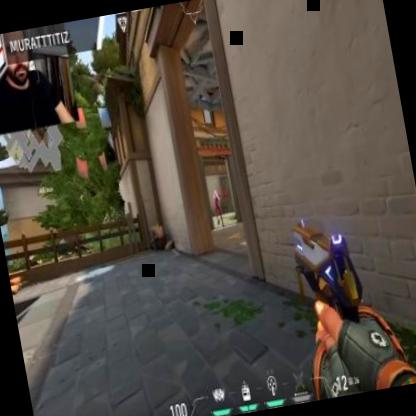enemy: (210, 188, 226, 228)
enemy_head: (213, 188, 218, 196)
